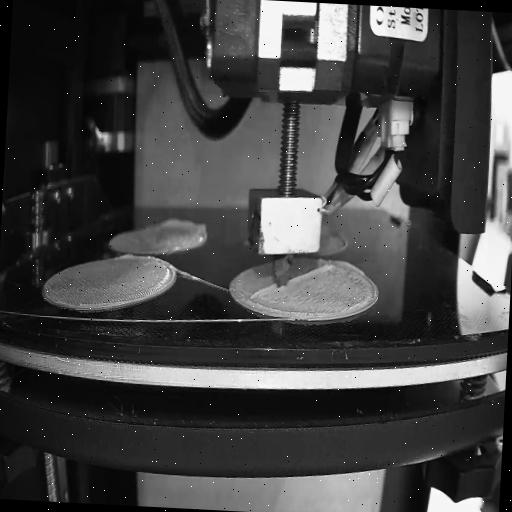over_extrusion: (248, 252, 332, 303), (157, 215, 213, 241), (334, 258, 368, 276), (338, 229, 350, 252), (117, 251, 138, 262)
